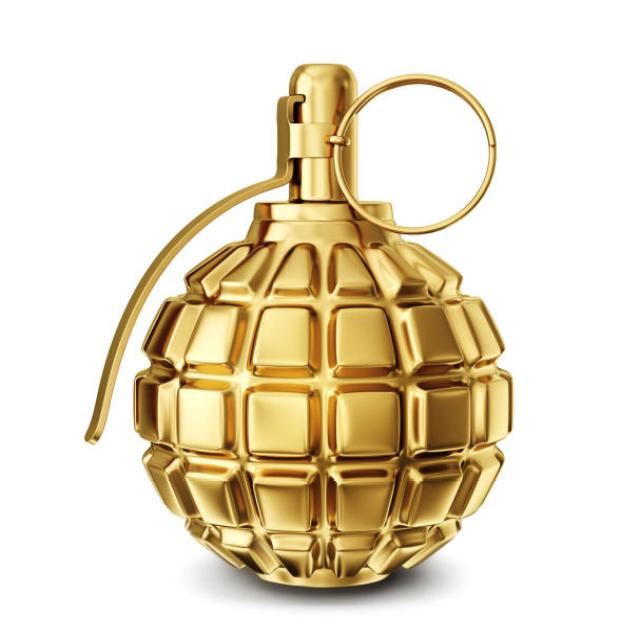grenade: (67, 56, 525, 595)
